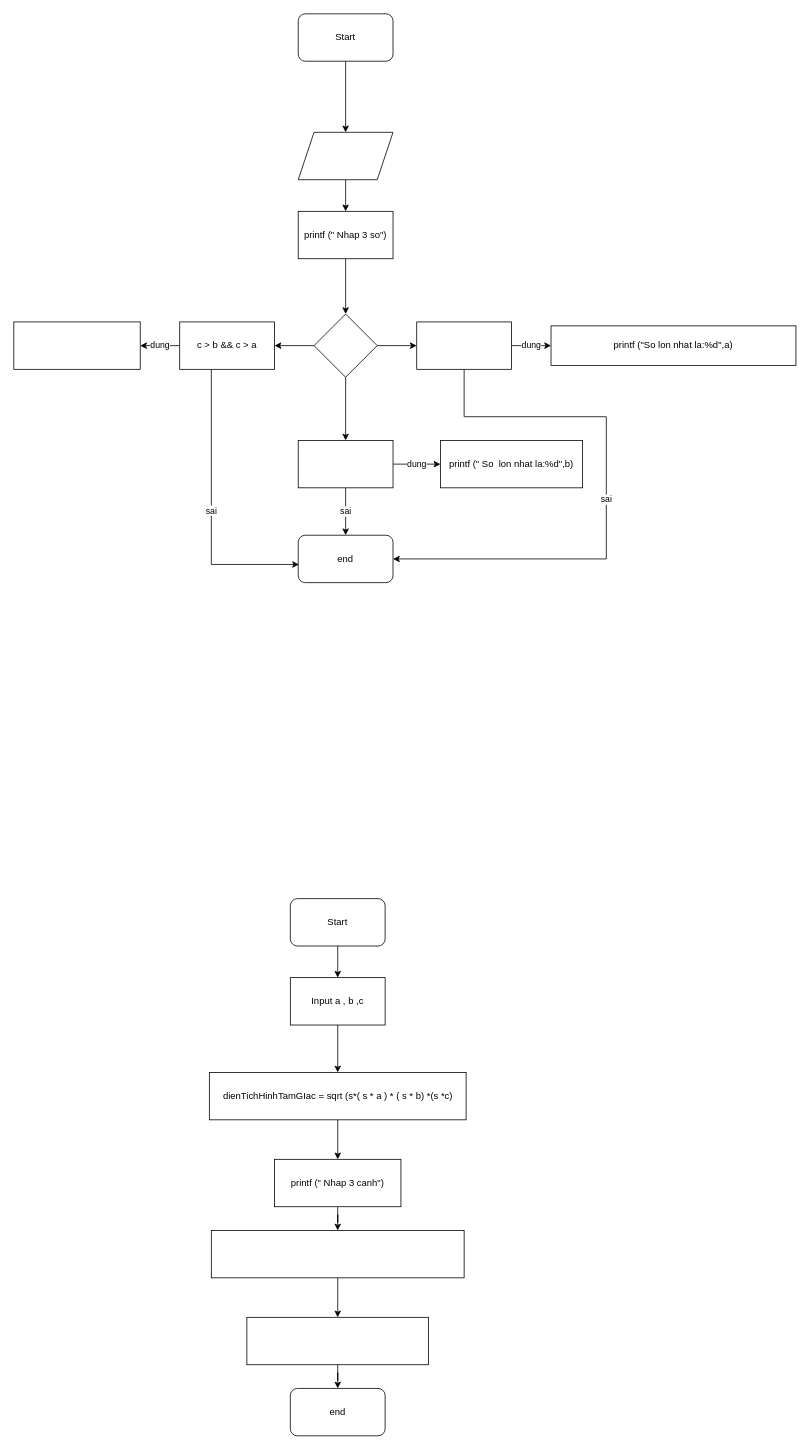
Some shapes in this 810 by 1450 pixel diagram are drawn without their labels. Here are the shapes that lost their labels. From the top down, the centre of each, then its label:
point (345, 156): Input n1, n2 , n3
point (76, 345): printf (" So lon nhat la:%d",c)
point (464, 345): a > b a > c
point (345, 464): ( b > a) & &( b > c )
point (337, 1254): area=dienTichHinhTamGiac(a,b,c)
point (337, 1341): Printf("Dien tich hinh tam giac la: %f",area)
